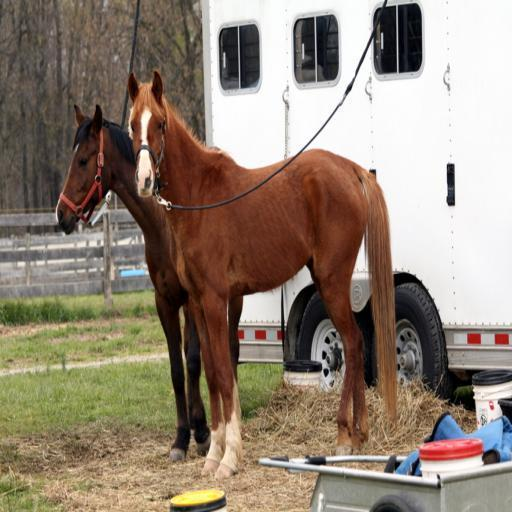horse: (126, 68, 400, 481), (52, 102, 244, 462)
